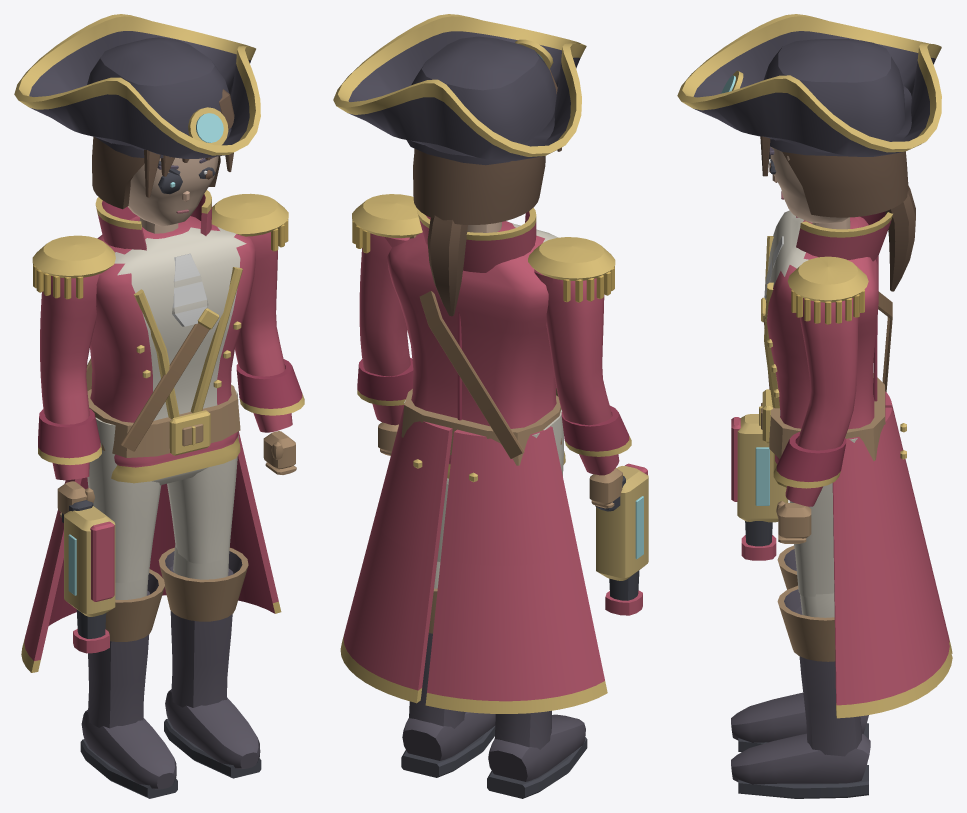
File: jo_pirate.glb
3 views of the same model, side by side, from view 1: azimuth 30°, elevation 25°; view 2: azimuth 150°, elevation 25°; view 3: azimuth 270°, elevation 25° (orthographic). The views are drawn at different scales.
Visible parts, largest first — view 1: torso, coiffe, jambe_l, jambe_r, arm_r, arm_l, gun, leg_r, leg_l, dos_g_f2, col, head (+8 smaller); view 2: coiffe, torso, dos_d_f2, dos_d_f1, dos_g_f2, arm_r, hair, arm_l, dos_g_f1, jambe_r, jambe_l, gun (+3 smaller); view 3: coiffe, dos_g_f2, torso, jambe_l, arm_l, dos_g_f1, hair, gun, epaule_l, jambe_r, col, leg_l (+3 smaller).
Boxes of the visible parts, bbox=[...] form: torso: bbox=[86, 216, 255, 485]; coiffe: bbox=[14, 14, 260, 158]; jambe_l: bbox=[158, 547, 261, 778]; jambe_r: bbox=[80, 569, 177, 798]; arm_r: bbox=[38, 274, 101, 517]; arm_l: bbox=[235, 232, 304, 474]; gun: bbox=[62, 500, 115, 653]; leg_r: bbox=[87, 417, 161, 583]; leg_l: bbox=[167, 390, 238, 563]; dos_g_f2: bbox=[149, 483, 281, 613]; col: bbox=[95, 190, 211, 326]; head: bbox=[128, 156, 218, 233]; coiffe: bbox=[333, 14, 586, 165]; torso: bbox=[387, 221, 565, 484]; dos_d_f2: bbox=[425, 551, 607, 713]; dos_d_f1: bbox=[441, 426, 577, 565]; dos_g_f2: bbox=[340, 515, 437, 703]; arm_r: bbox=[534, 269, 631, 508]; hair: bbox=[413, 69, 561, 316]; arm_l: bbox=[357, 233, 413, 455]; dos_g_f1: bbox=[375, 399, 452, 557]; jambe_r: bbox=[487, 710, 587, 798]; jambe_l: bbox=[401, 588, 495, 777]; gun: bbox=[595, 463, 648, 615]; coiffe: bbox=[677, 14, 941, 156]; dos_g_f2: bbox=[834, 525, 952, 718]; torso: bbox=[759, 210, 892, 487]; jambe_l: bbox=[731, 585, 870, 798]; arm_l: bbox=[773, 298, 858, 543]; dos_g_f1: bbox=[832, 407, 920, 569]; hair: bbox=[760, 136, 915, 291]; gun: bbox=[731, 414, 788, 560]; epaule_l: bbox=[787, 256, 868, 324]; jambe_r: bbox=[731, 545, 868, 752]; col: bbox=[764, 211, 892, 300]; leg_l: bbox=[789, 438, 857, 597].
Bounding box in the file's own units: 0.478 × 1.24 × 0.43.
